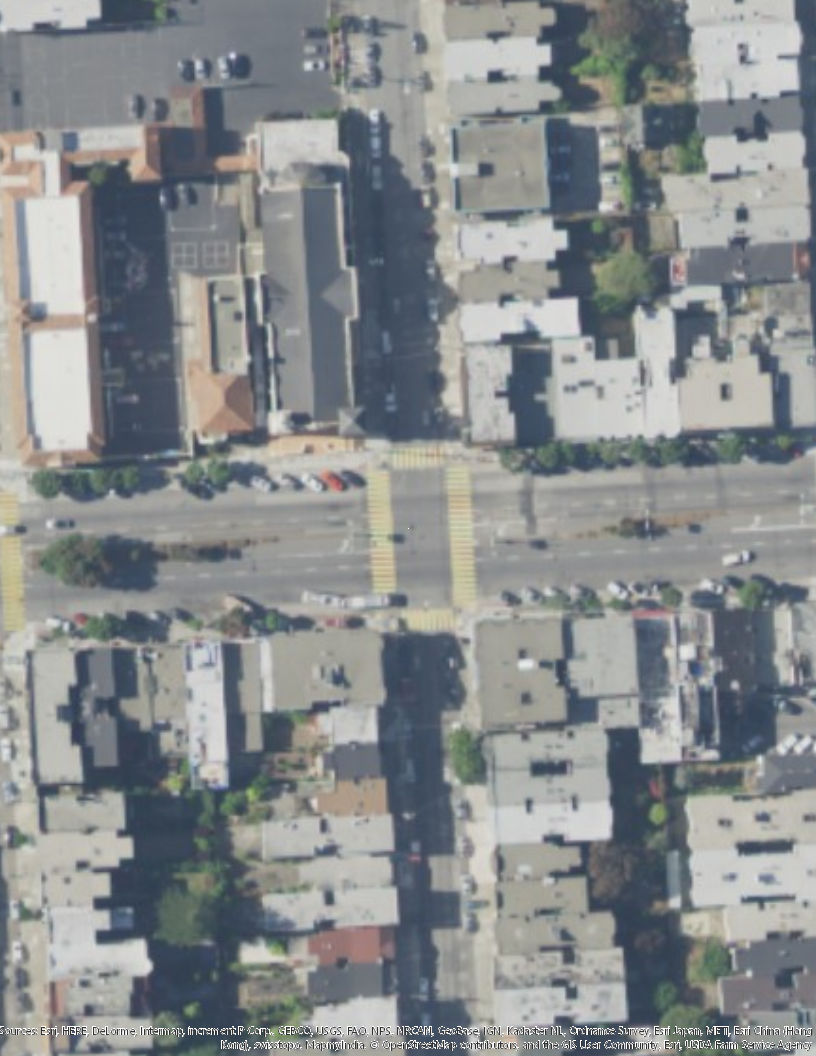zebracross: (444, 469, 480, 606), (361, 470, 401, 589), (1, 486, 23, 630), (388, 447, 447, 470), (407, 610, 455, 633)
